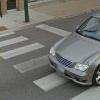Crosswalk: (9, 28, 100, 100)
